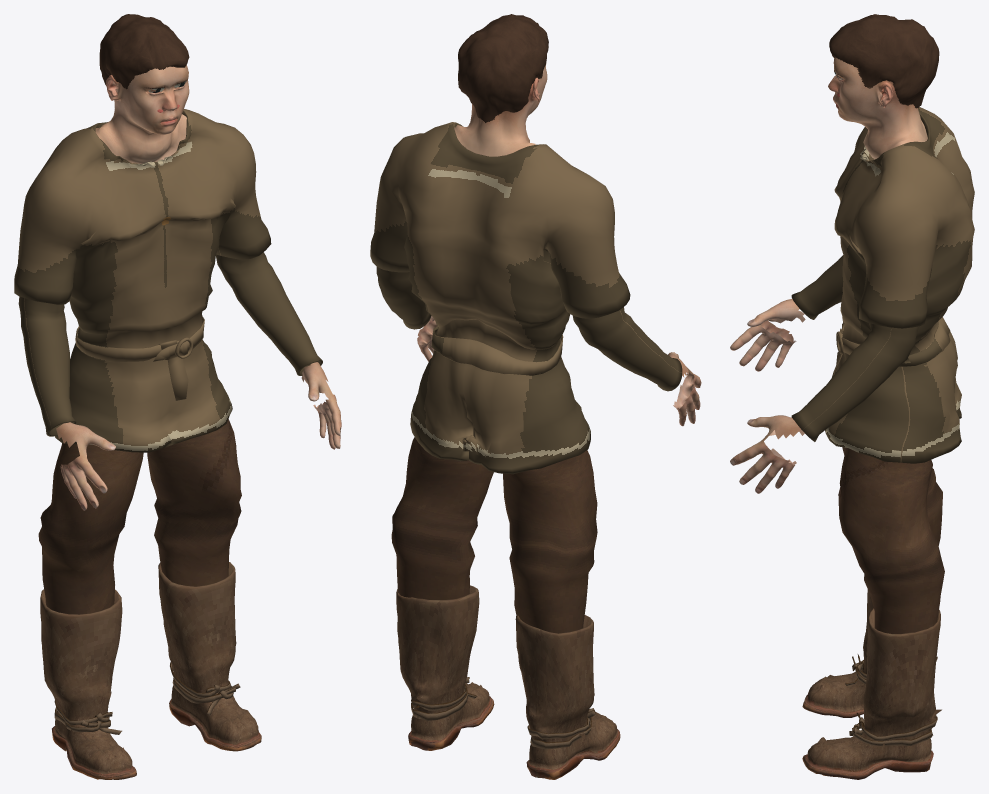
Rendered from mike-field-tunic.glb.
3 views of the same model, side by side, from view 1: azimuth 30°, elevation 25°; view 2: azimuth 150°, elevation 25°; view 3: azimuth 270°, elevation 25° (orthographic).
Parts seen in each view (by area): view 1: mike-field-tunic runtime mesh; view 2: mike-field-tunic runtime mesh; view 3: mike-field-tunic runtime mesh.
Part boxes in pixels (left/top/right/bottom): mike-field-tunic runtime mesh: left=14, top=14, right=341, bottom=779; mike-field-tunic runtime mesh: left=370, top=14, right=701, bottom=779; mike-field-tunic runtime mesh: left=730, top=14, right=974, bottom=779.
Bounding box in the file's own units: 0.737 × 1.85 × 0.5693.
Materials: 8 (7 with a texture image).
